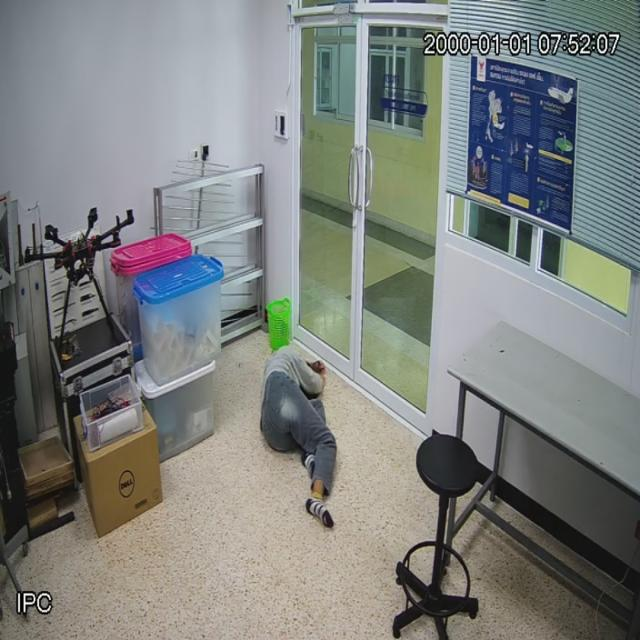fall: (262, 346, 338, 496)
